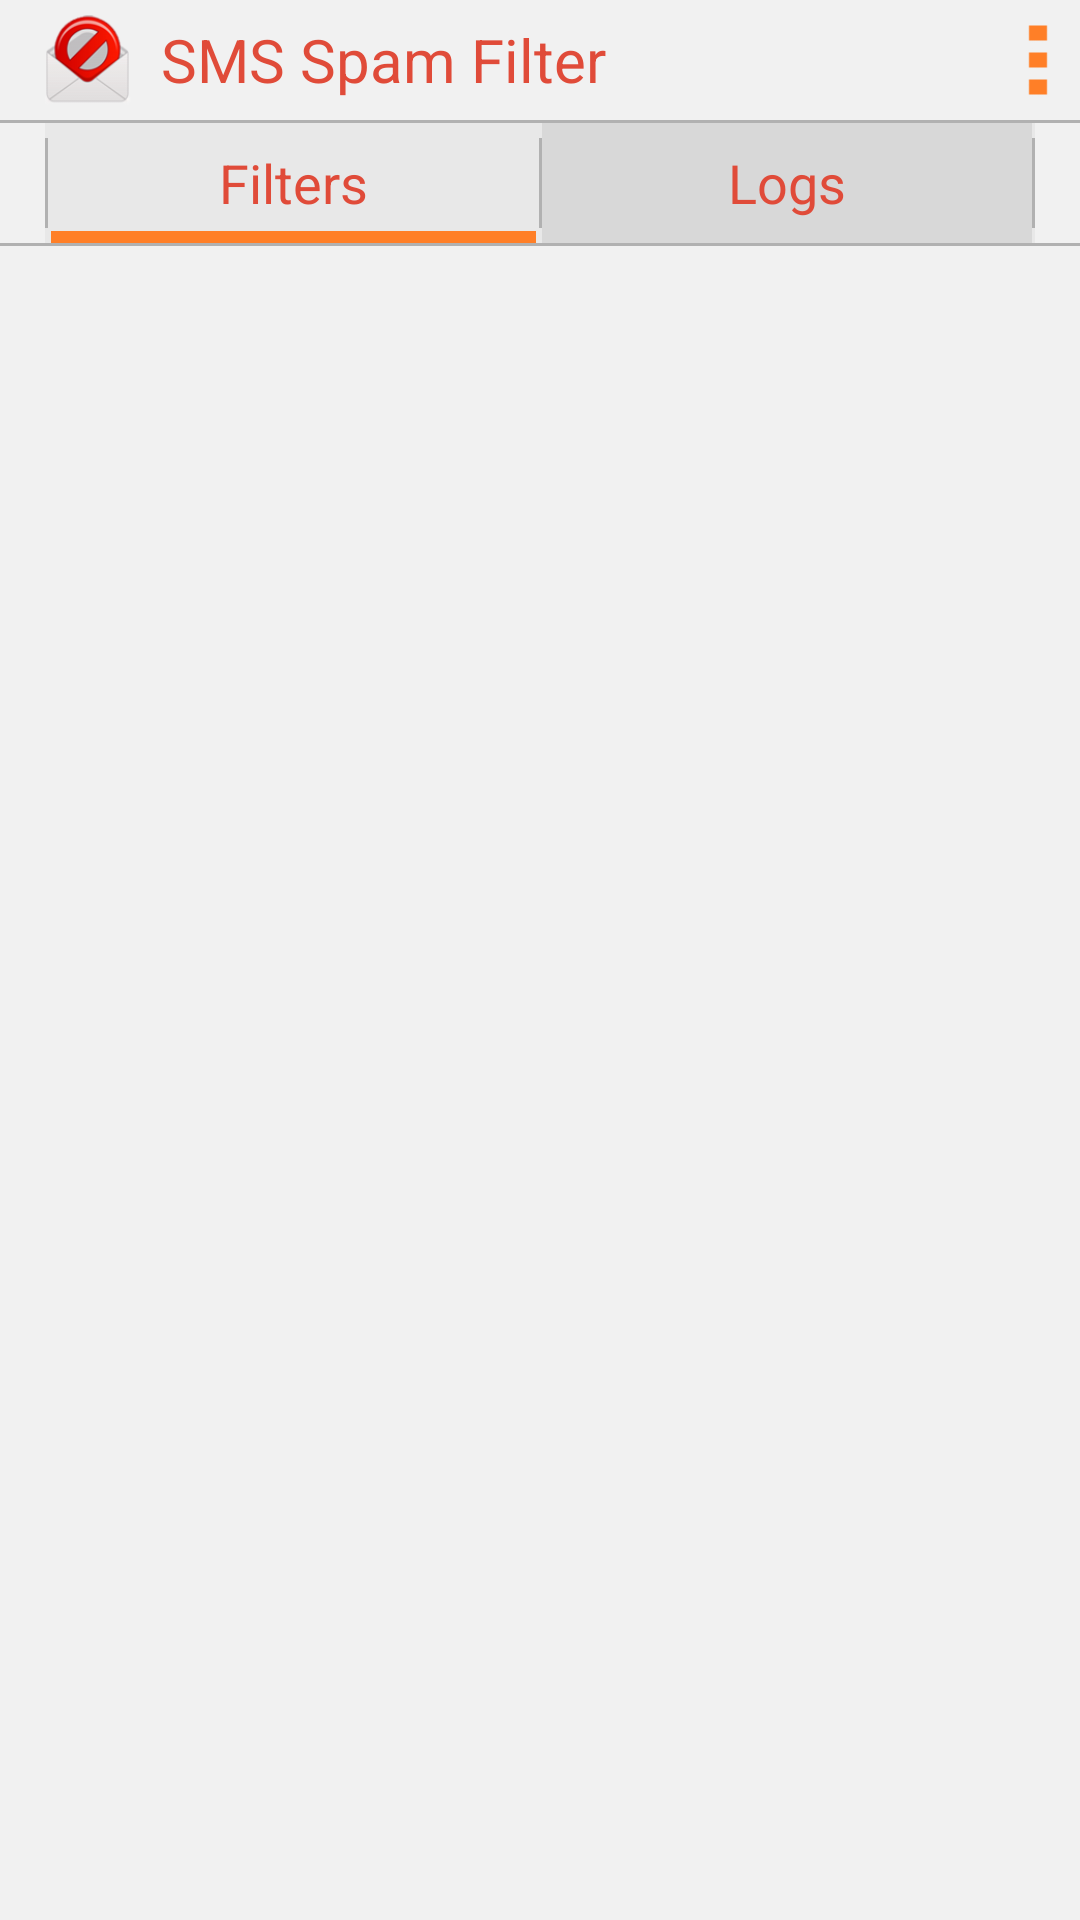

Icons on this 1080×1920 Android screen, each with the point to tap as [x,y]:
options menu: [1038,60]
